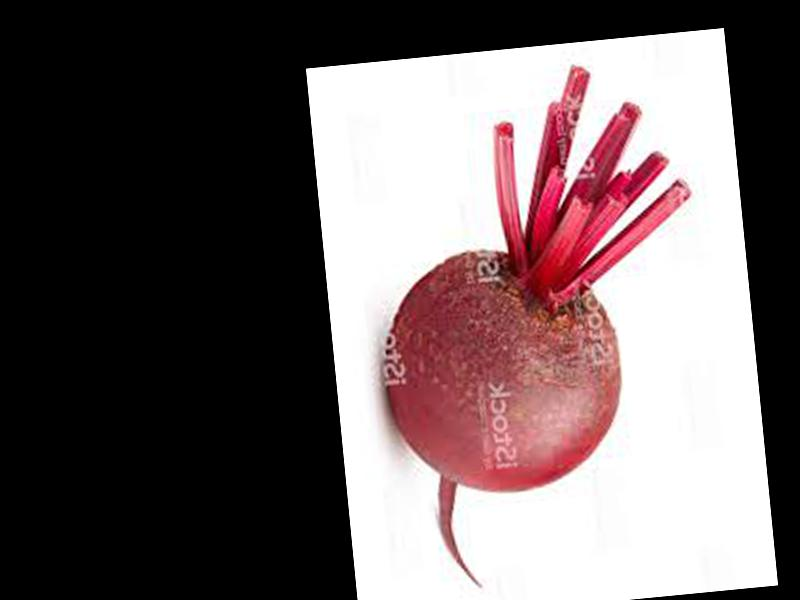Beet: (359, 56, 725, 593)
